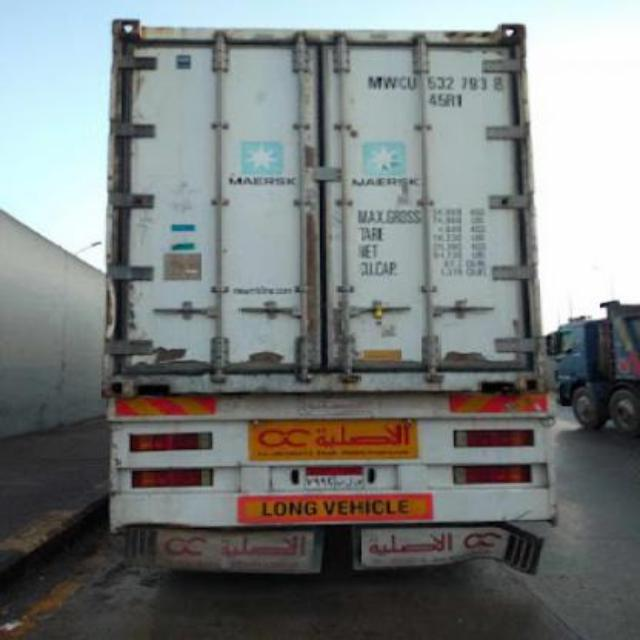2: (446, 76, 456, 90)
3: (436, 75, 446, 88), (480, 76, 488, 92)
5: (426, 75, 438, 88)
7: (458, 74, 470, 90)
8: (494, 76, 502, 92)
9: (468, 76, 480, 92)
C: (398, 75, 410, 88)
M: (368, 75, 382, 88)
U: (408, 76, 418, 90)
W: (384, 75, 398, 88)
